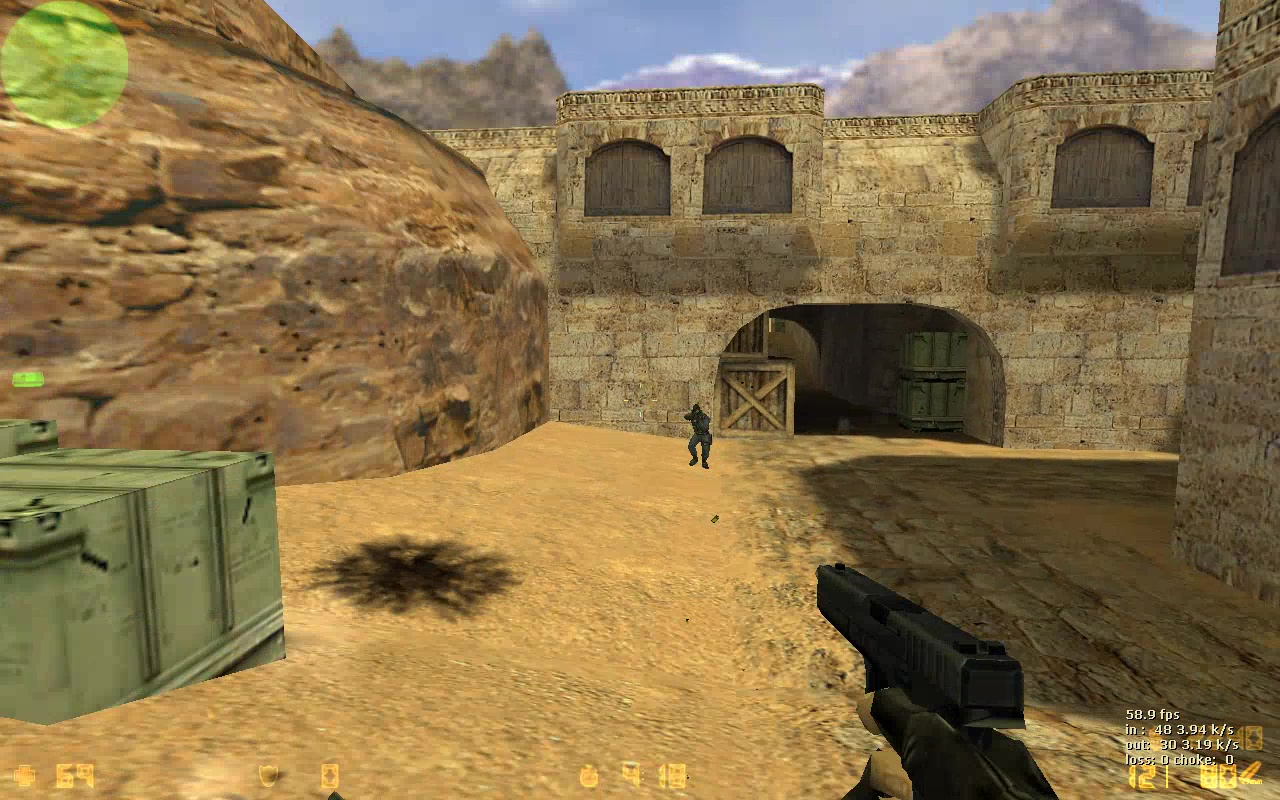ct: (685, 406, 717, 469)
